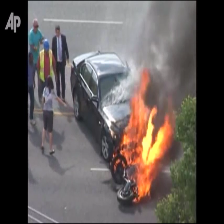fire_h: (119, 67, 176, 200)
fire_l: (113, 158, 126, 173), (109, 149, 118, 165)
